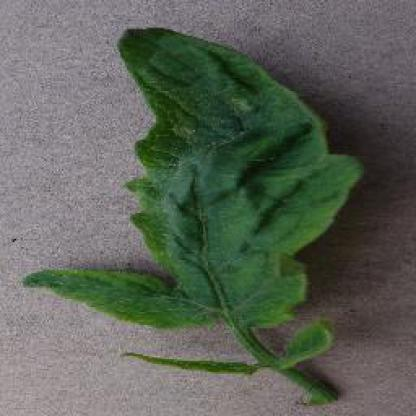good leaf: (109, 11, 356, 414), (158, 135, 365, 291), (11, 240, 216, 338), (228, 308, 368, 362)
